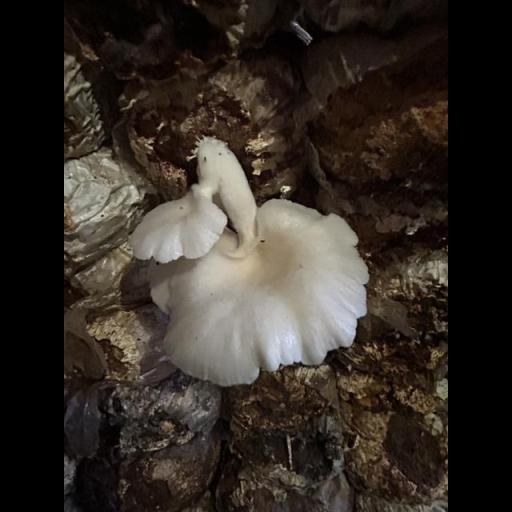White Oyster Mushroom: (126, 137, 372, 383)
